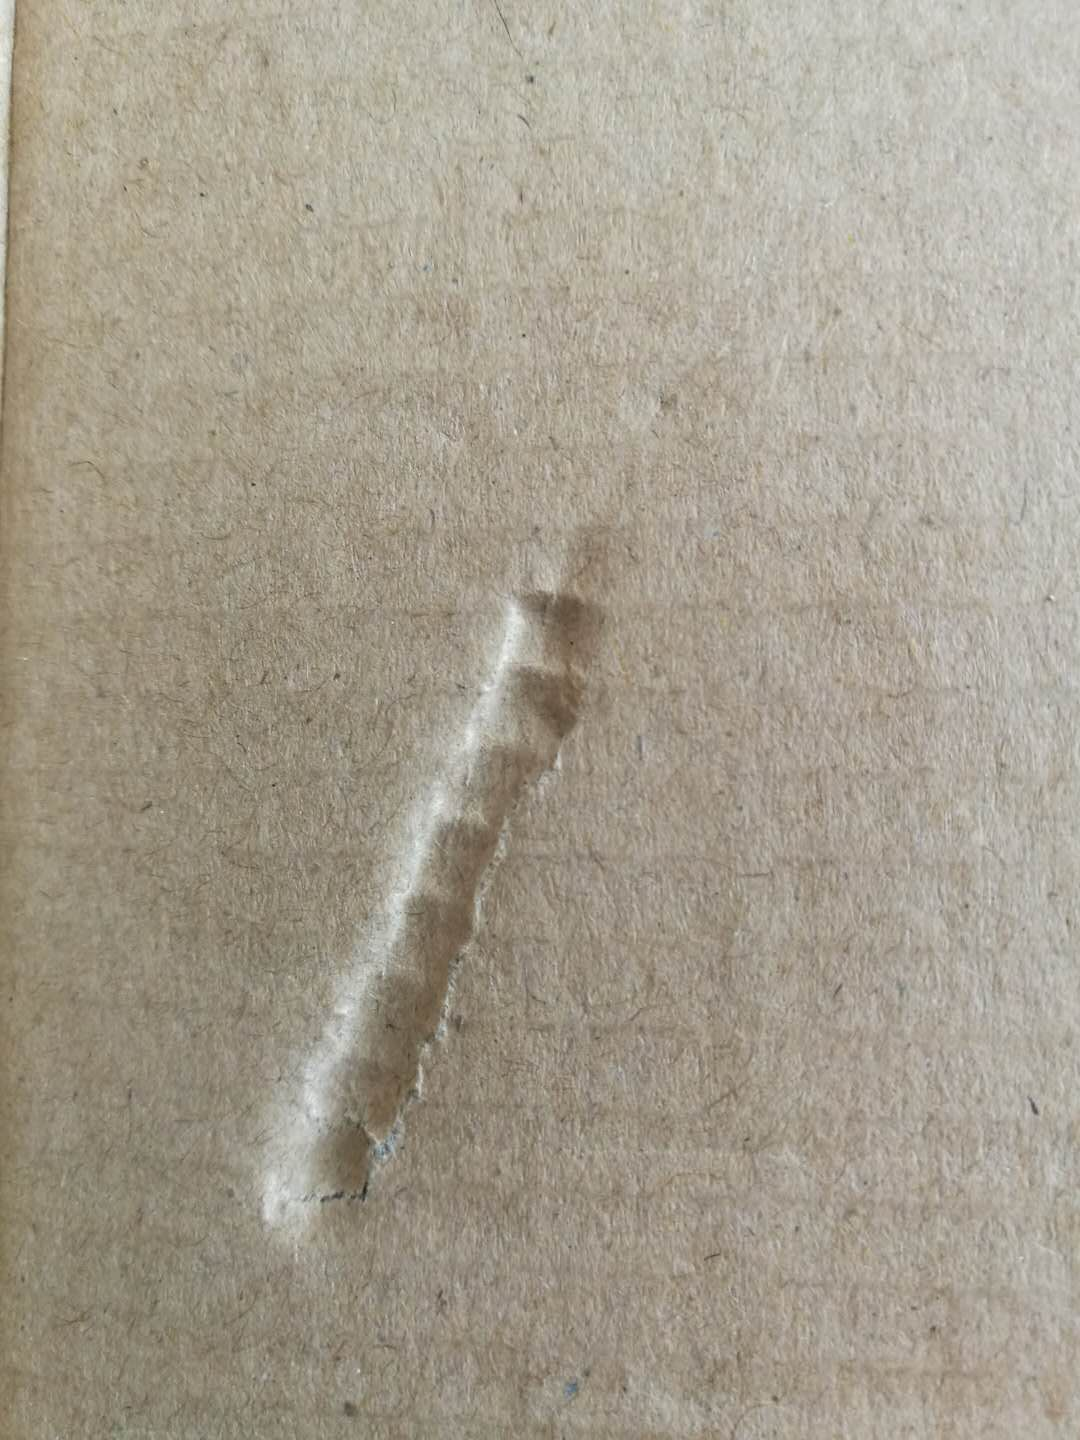defect: (192, 435, 706, 1273)
